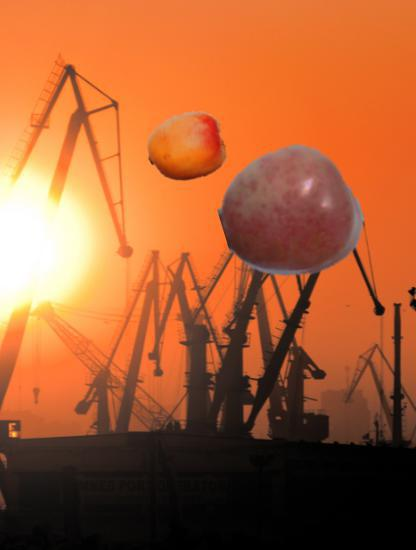Apricot: (148, 108, 228, 188)
Cherry: (221, 144, 360, 283)
